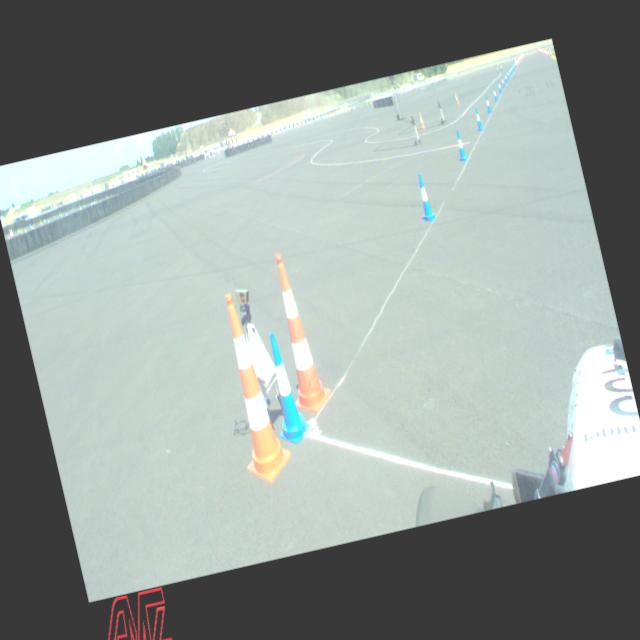blue_cone: (256, 330, 312, 446), (412, 172, 436, 222), (452, 128, 468, 162), (472, 106, 484, 130), (484, 94, 492, 113), (491, 86, 498, 102), (496, 80, 502, 93), (500, 76, 505, 88), (503, 72, 508, 82), (506, 69, 510, 79), (508, 68, 512, 76), (512, 62, 516, 70), (510, 64, 514, 72), (510, 66, 512, 74), (514, 61, 516, 68)
large_orange_cone: (207, 288, 296, 488), (262, 250, 334, 416)
orange_cone: (417, 112, 425, 128), (452, 90, 460, 104)
yellow_cone: (553, 50, 556, 60), (550, 50, 553, 57), (552, 49, 554, 58)
